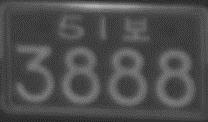1: (92, 15, 116, 40)
3: (13, 42, 55, 105)
5: (57, 12, 85, 41)
8: (59, 44, 102, 106), (106, 46, 149, 108), (153, 48, 197, 108)
보: (122, 16, 149, 42)
